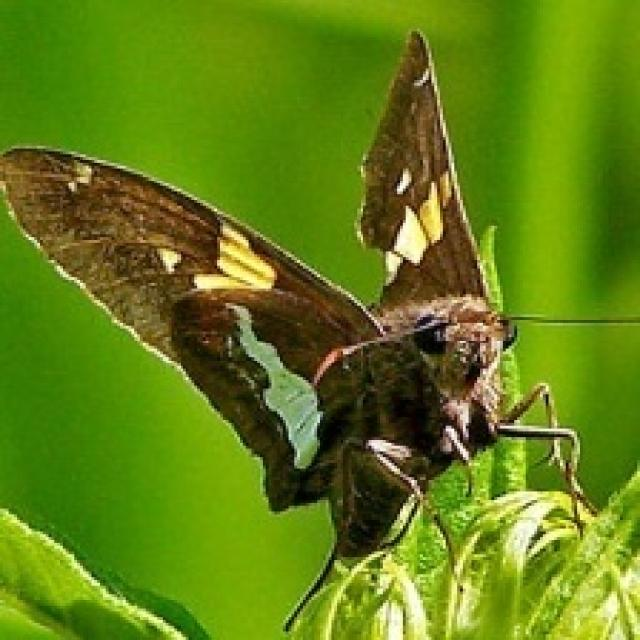butterfly: (14, 32, 634, 628)
